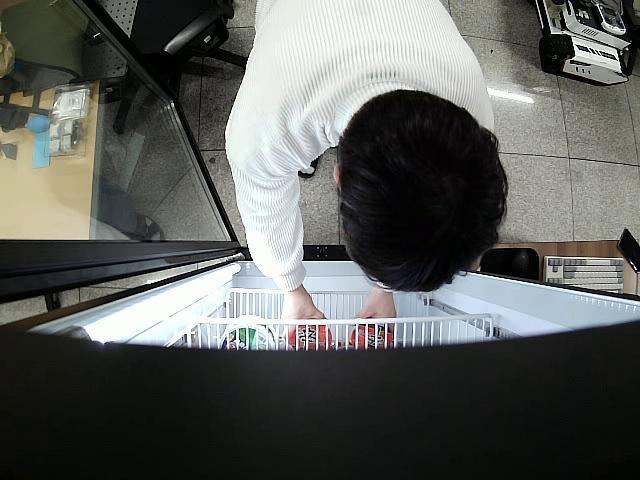02_shinRamen_S: (288, 321, 332, 352), (351, 324, 396, 348)
